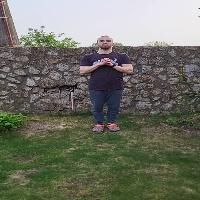lunges: (78, 27, 134, 136)
